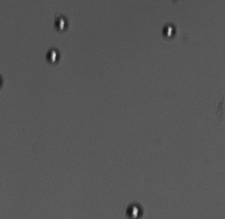Living Cell: (161, 22, 179, 40), (52, 13, 69, 32), (125, 202, 145, 217), (44, 47, 60, 64)
